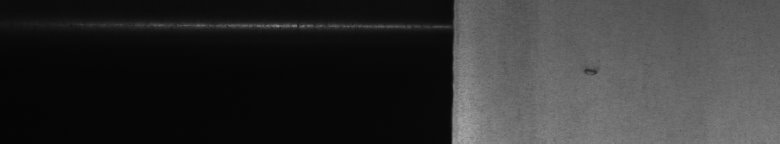fi: (580, 60, 600, 84)
